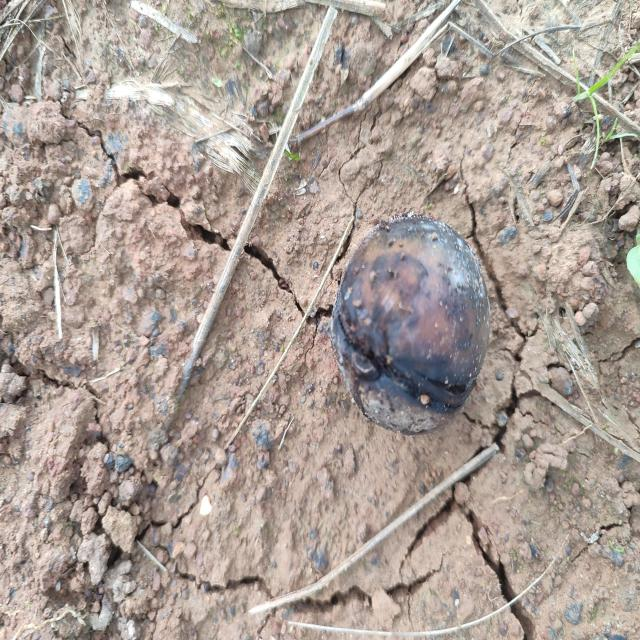damaged: (330, 215, 491, 436)
